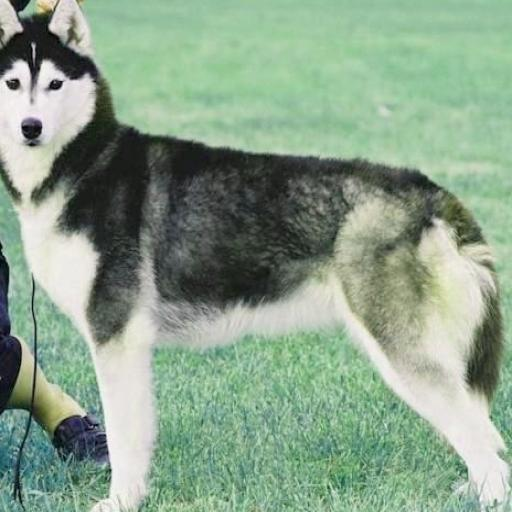dog_face: (0, 0, 87, 147)
